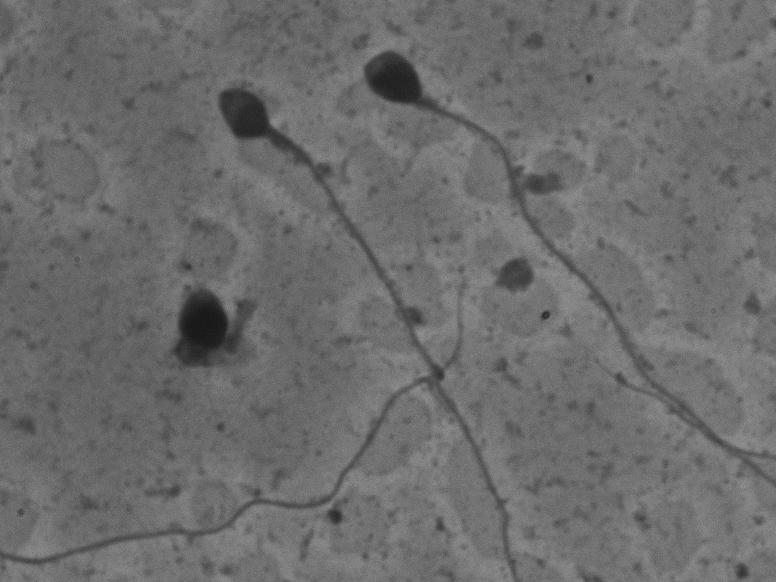Abnormal: (327, 30, 760, 492), (195, 74, 549, 569), (136, 269, 279, 400)
